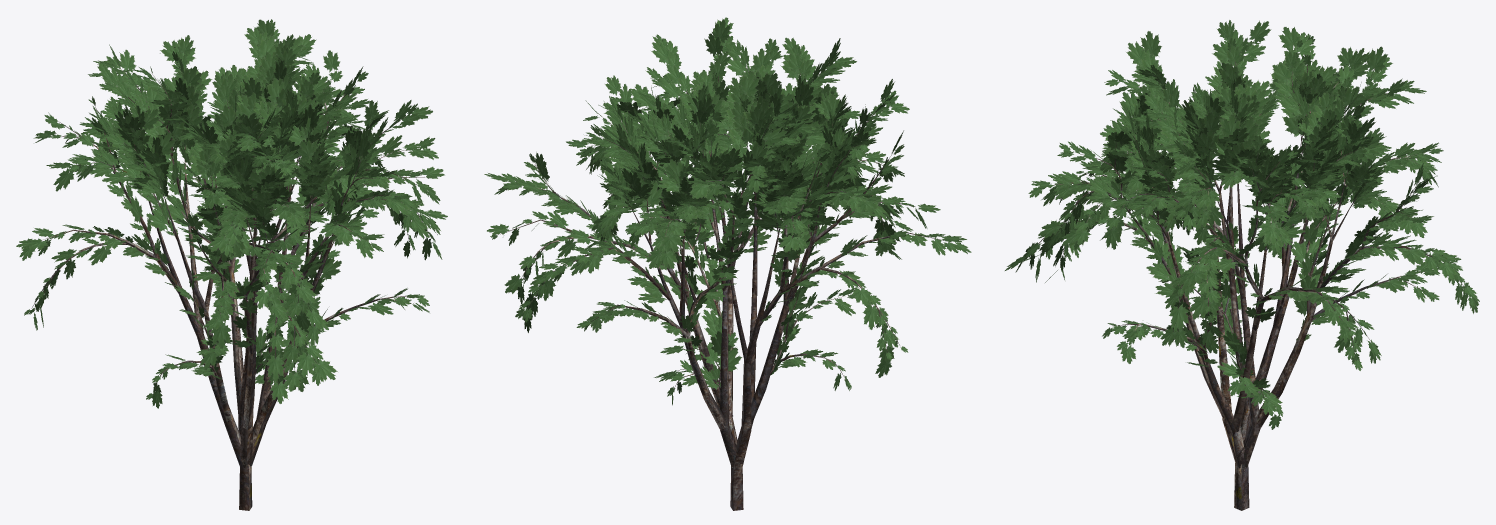
File: tree2.fbx
3 renders of one model, left to right at view 1: azimuth 30°, elevation 25°; view 2: azimuth 150°, elevation 25°; view 3: azimuth 270°, elevation 25°, orthographic.
Visible parts, largest first — view 1: tree2_LOD0; view 2: tree2_LOD0; view 3: tree2_LOD0.
Part boxes in pixels (x1,y1,x2,y2): tree2_LOD0: (16, 19, 447, 510); tree2_LOD0: (484, 17, 971, 510); tree2_LOD0: (1005, 20, 1479, 510).
Size of what is drawn, in the model's own units: 1800 by 1773 by 1730.
